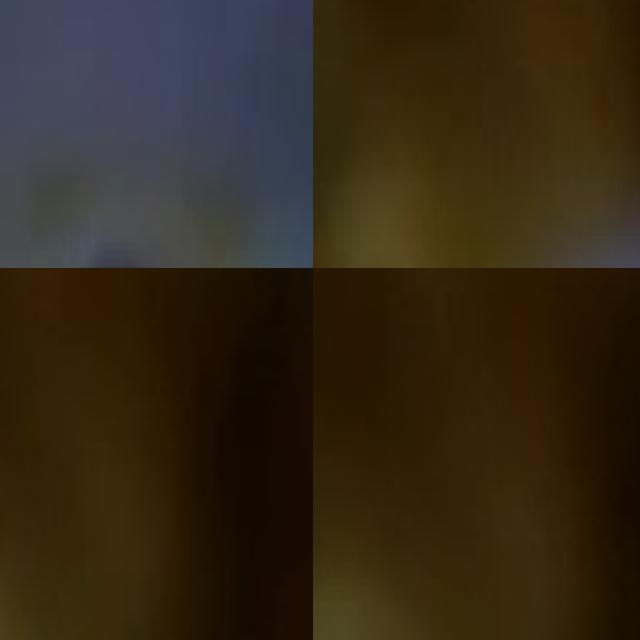fish: (0, 268, 313, 640), (0, 0, 313, 268)
